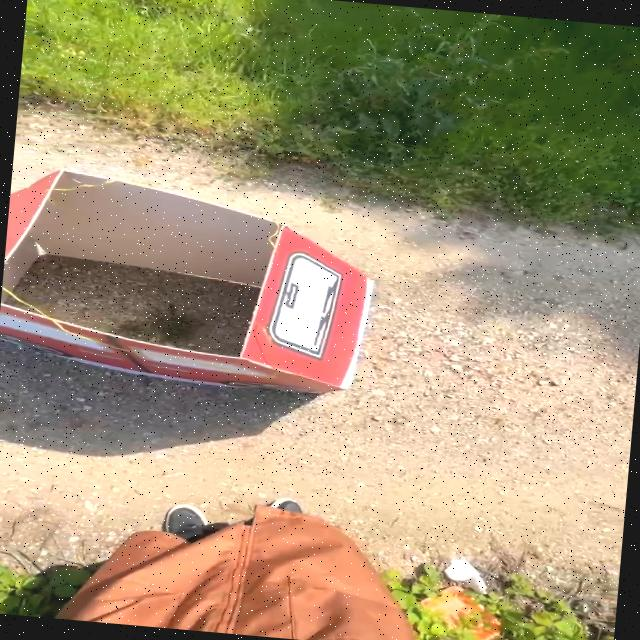red_car: (0, 151, 437, 438)
